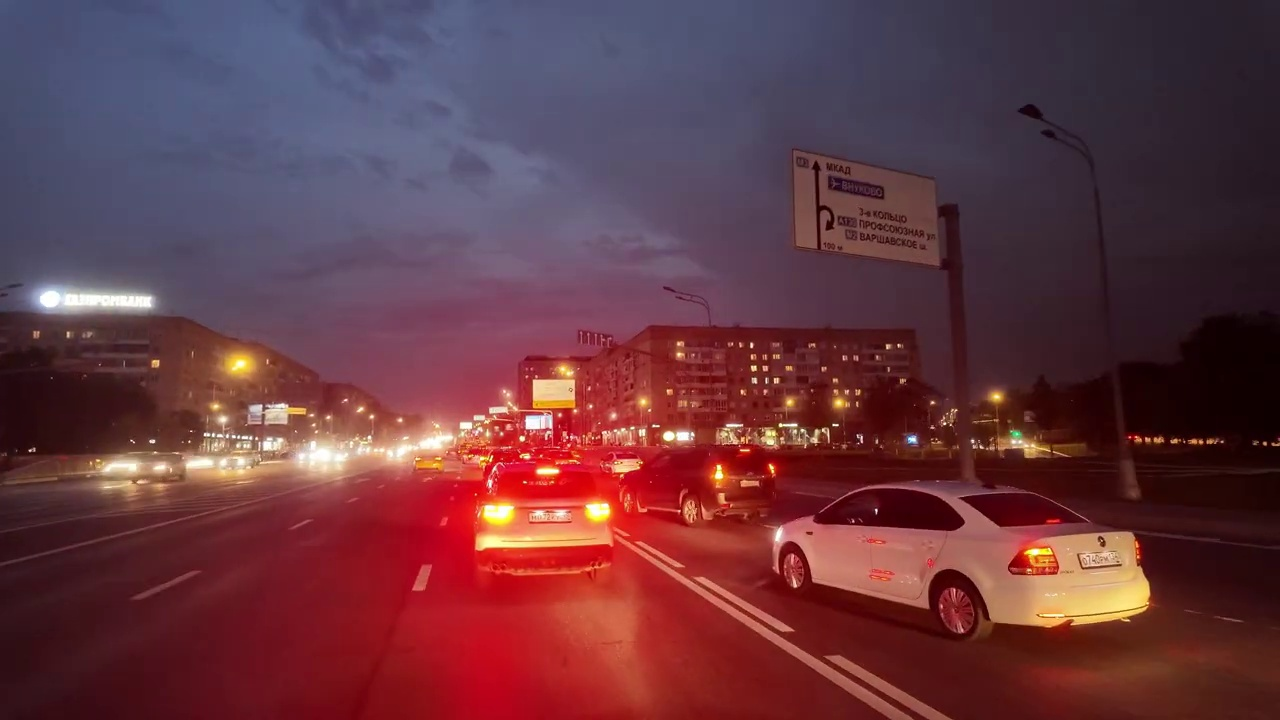acesa: (223, 350, 257, 379), (984, 387, 1009, 409)
apagada: (659, 277, 699, 310), (1015, 100, 1049, 135)
